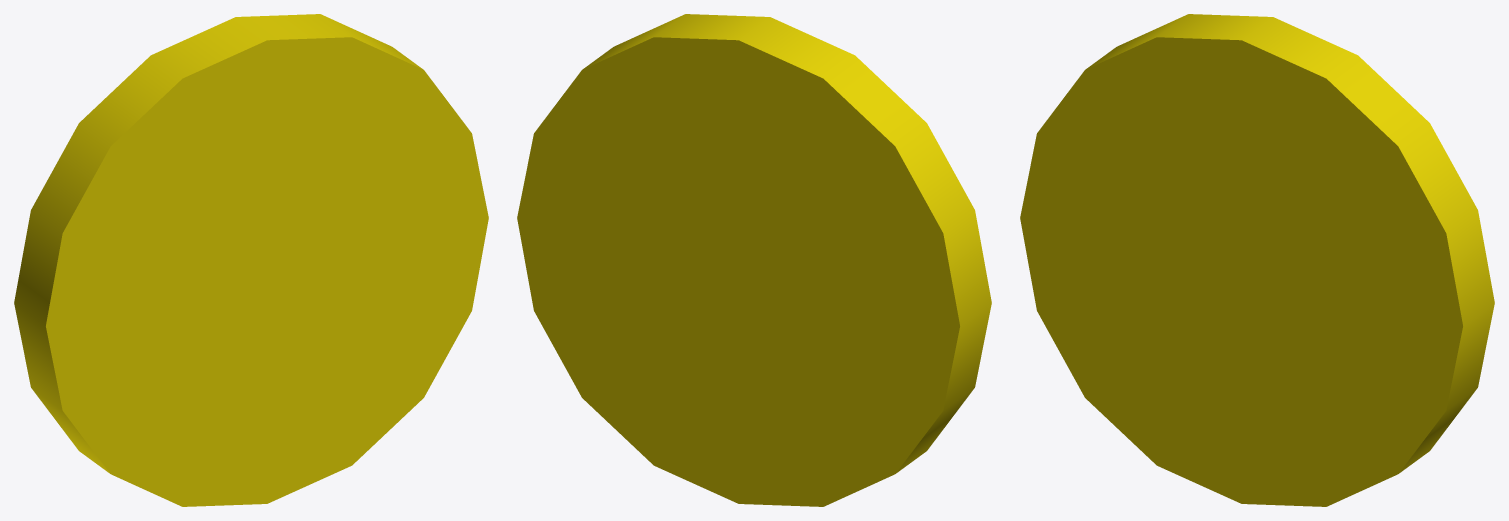
The model's file is coin.fbx.
The picture shows the model from 3 angles, left to right: view 1: azimuth 30°, elevation 25°; view 2: azimuth 150°, elevation 25°; view 3: azimuth 330°, elevation 25°; orthographic projection.
Parts seen in each view (by area): view 1: pCylinder1; view 2: pCylinder1; view 3: pCylinder1.
Part boxes in pixels (x1=…): pCylinder1: x1=14, y1=14, x2=488, y2=506; pCylinder1: x1=517, y1=14, x2=991, y2=506; pCylinder1: x1=1020, y1=14, x2=1494, y2=506.
Bounding box in the file's own units: 2 × 2 × 0.248.
